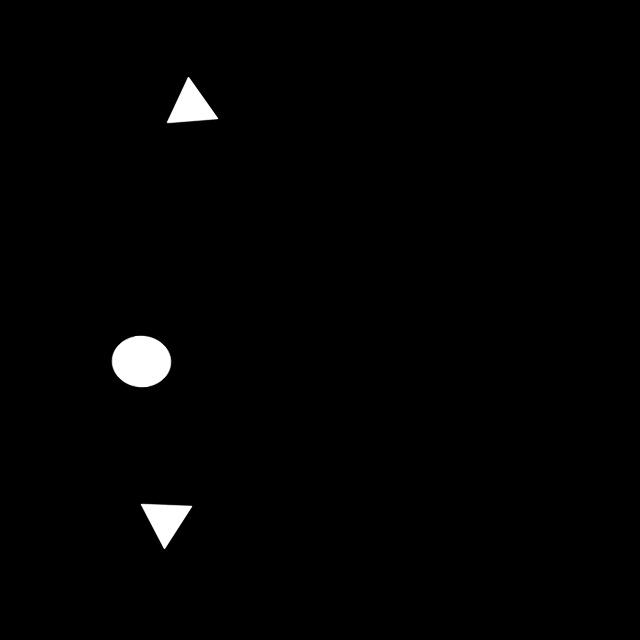Circle: (108, 325, 175, 395)
Triangle: (157, 66, 230, 139), (132, 489, 198, 560)
